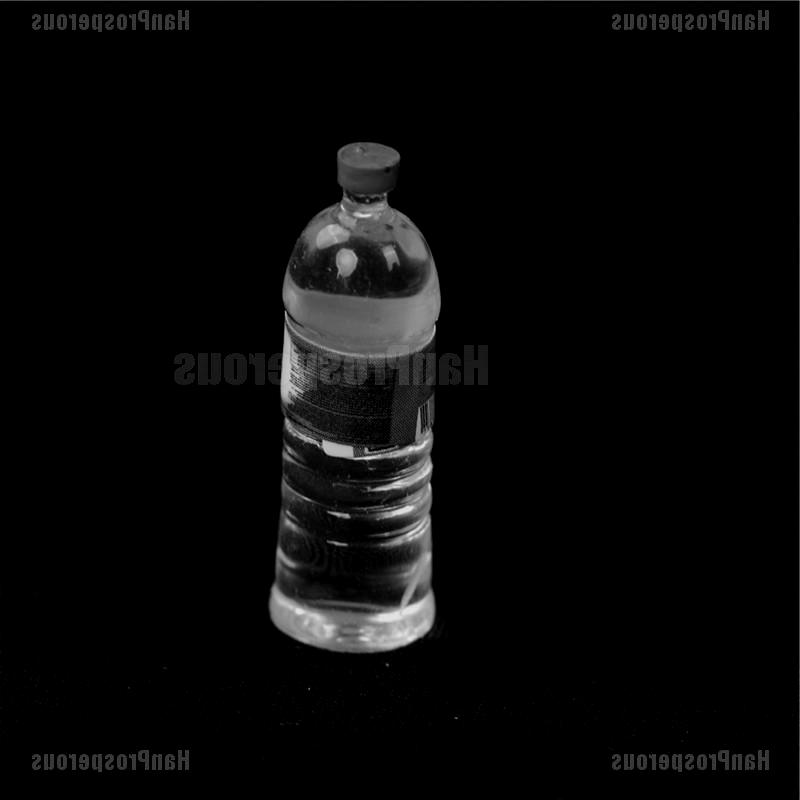bottle: (256, 120, 444, 659)
